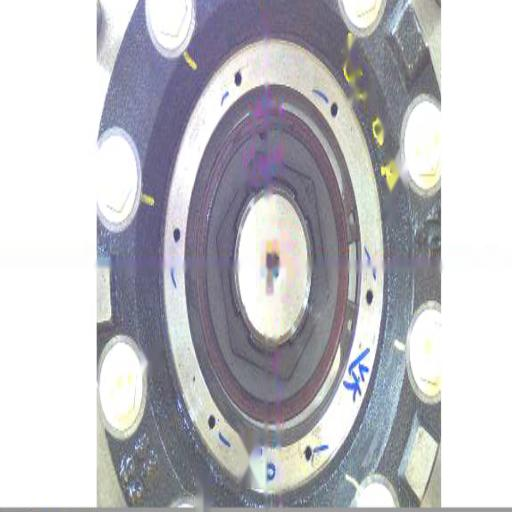center: (266, 248, 283, 276)
notch: (254, 129, 274, 151)
